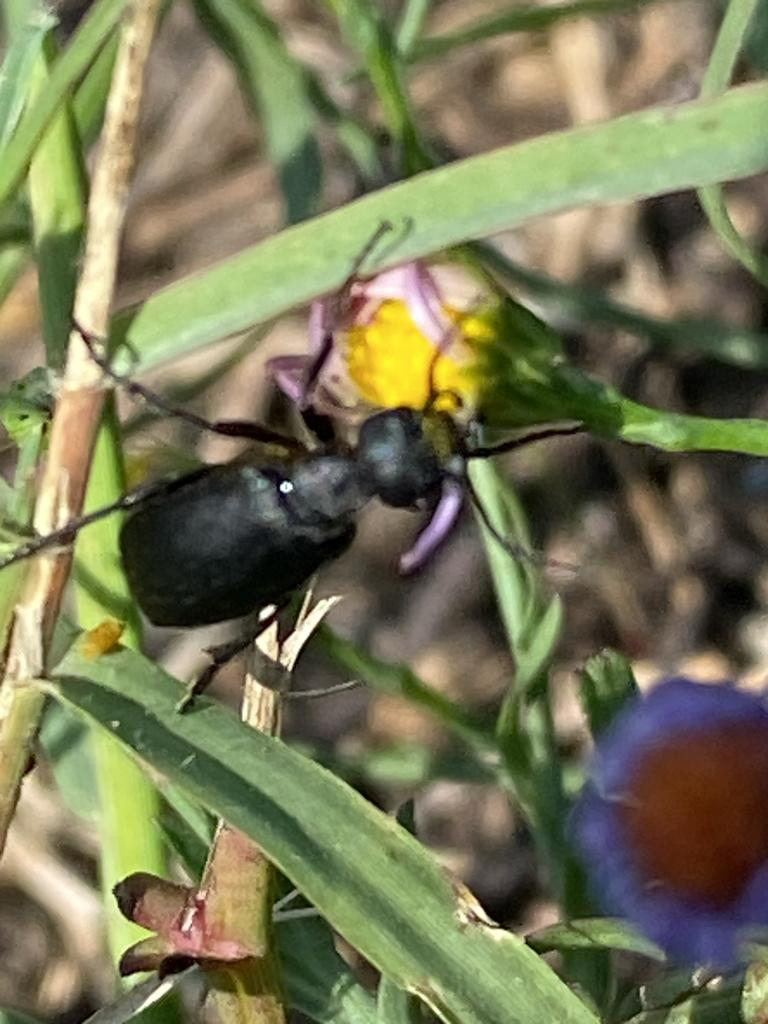blister_beetle: (0, 223, 644, 760)
